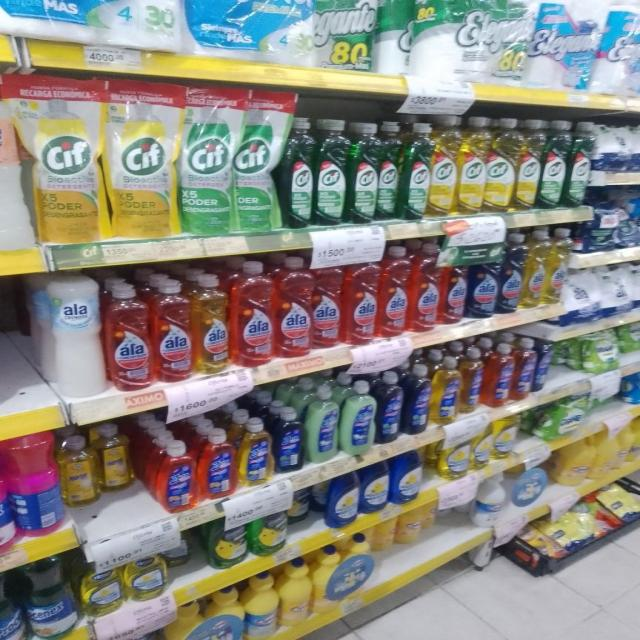ala_conc_amarillo: (193, 273, 229, 375), (546, 227, 570, 305), (524, 230, 546, 308)
ala_conc_azul: (470, 237, 499, 319), (501, 233, 524, 314)
ala_conc_rojo: (105, 283, 151, 391), (232, 260, 274, 366), (153, 278, 192, 383), (275, 255, 312, 359), (344, 249, 377, 345), (313, 253, 342, 350), (410, 241, 440, 332), (379, 245, 408, 338), (442, 239, 468, 325)
ala_crem_blanco: (34, 273, 104, 400)
ala_crem_rosado: (0, 75, 27, 251)
cif_conc_bot_amarilla: (487, 117, 517, 213), (458, 116, 486, 215), (431, 116, 457, 218), (518, 119, 541, 211)
cif_conc_botella_verde: (282, 117, 314, 229), (315, 119, 347, 228), (349, 121, 378, 225), (402, 121, 430, 220), (542, 119, 568, 210), (378, 120, 401, 222), (568, 122, 592, 208)
cif_conc_sachet_amarillo: (28, 72, 103, 244), (106, 80, 176, 240)
cif_conc_sachet_verde: (179, 86, 232, 236), (234, 90, 281, 233)
magistral_con_amarillo: (80, 560, 122, 616), (125, 551, 166, 601), (436, 428, 471, 480), (492, 415, 518, 462), (471, 421, 491, 472)
magistral_con_azul: (392, 450, 423, 504), (328, 473, 358, 528), (360, 462, 390, 514)
zorro: (238, 417, 272, 487), (274, 407, 304, 474)
